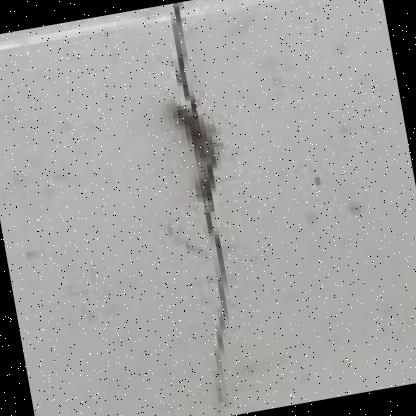Crack: (59, 0, 307, 415)
